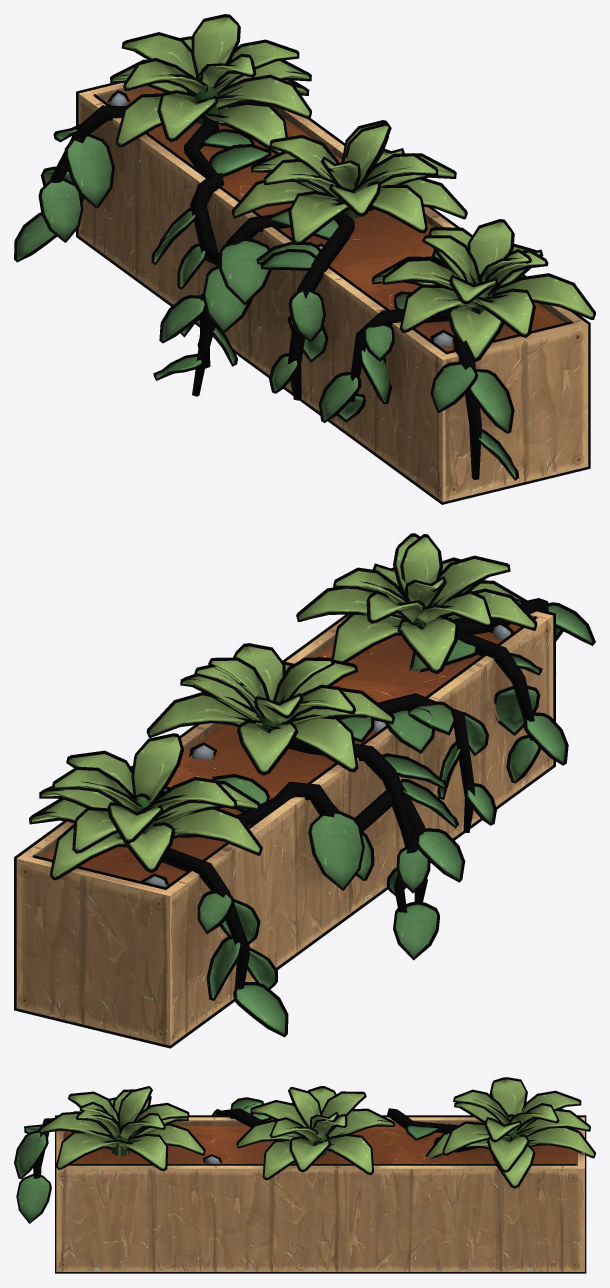
File: Plant 4.fbx
The picture shows the model from 3 angles, top to bottom: view 1: azimuth 30°, elevation 25°; view 2: azimuth 150°, elevation 25°; view 3: azimuth 270°, elevation 25°; orthographic projection. The views are drawn at different scales.
Parts seen in each view (by area): view 1: Plant 4; view 2: Plant 4; view 3: Plant 4.
Boxes of the visible parts, left/top/right/bottom form: Plant 4: left=14, top=14, right=595, bottom=504; Plant 4: left=14, top=533, right=595, bottom=1048; Plant 4: left=14, top=1077, right=595, bottom=1273.
Bounding box in the file's own units: 50.61 × 40.11 × 125.
